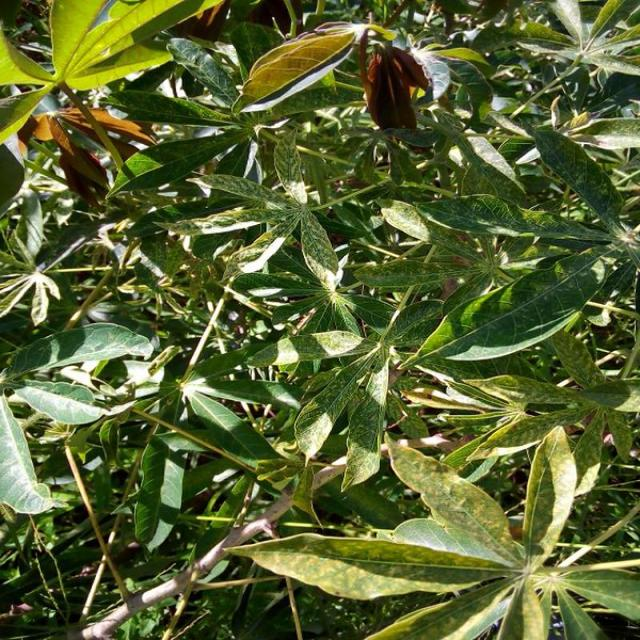cassava leaf: (2, 1, 639, 637), (238, 24, 358, 115)
